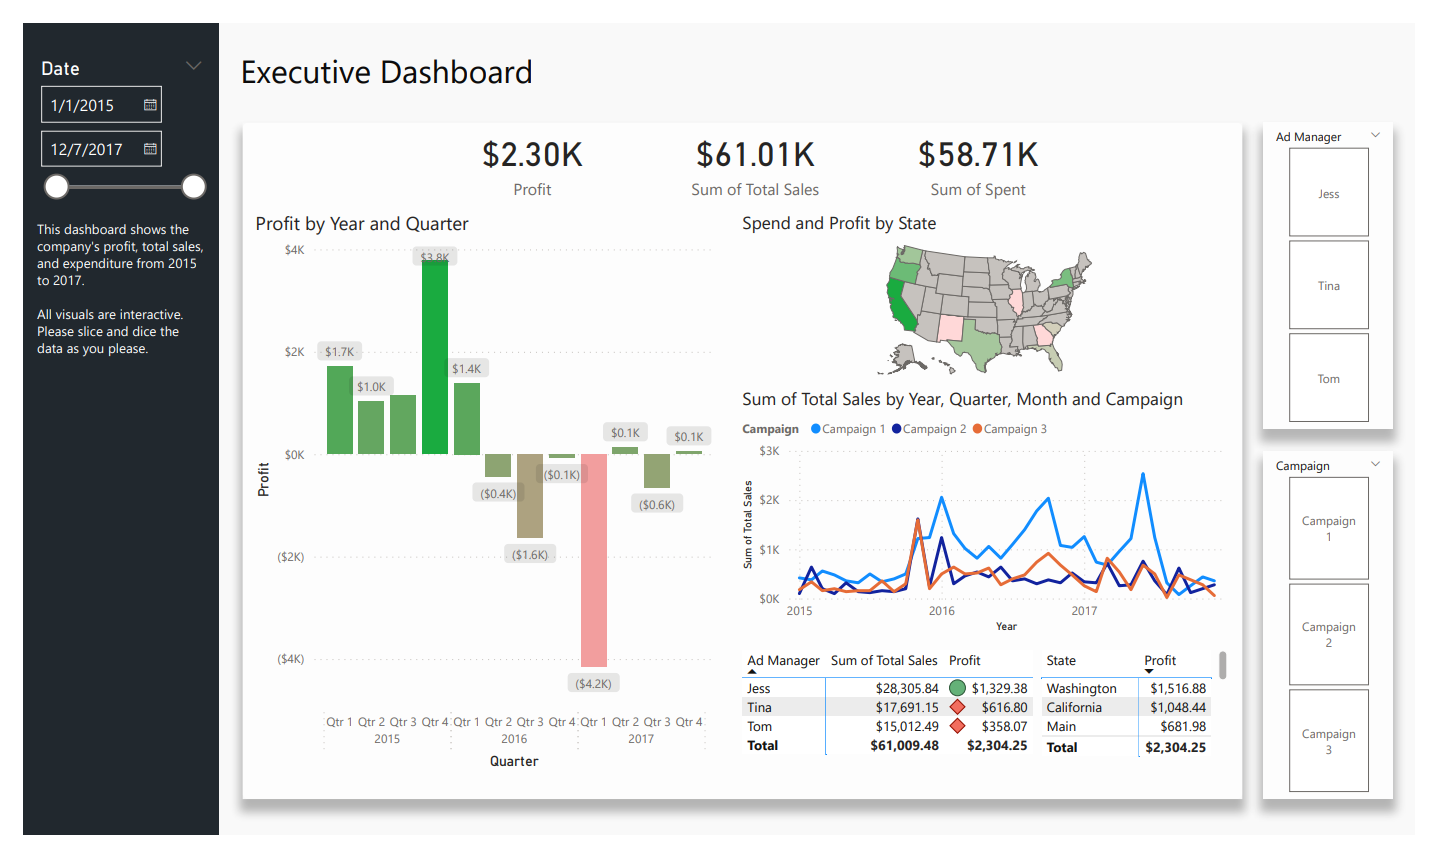

The dashboard page shown, as its layout file describes it:
{"tool":"powerbi","page":{"name":"BI Dashboard Practice","canvas":[1395,814],"ordinal":10},"visuals":[{"type":"shape","box":[0,0,196,814],"z":0},{"type":"shape","box":[220,100,1002.2,677.8],"z":1000},{"type":"columnChart","fields":{"Category":["fb_campaign.Date.Variation.Date Hierarchy.Year","fb_campaign.Date.Variation.Date Hierarchy.Quarter","fb_campaign.Date.Variation.Date Hierarchy.Month","fb_campaign.Date.Variation.Date Hierarchy.Day"],"Y":["fb_campaign.Profit"]},"box":[227.8,187.8,470,565.6],"z":3000},{"type":"shapeMap","fields":{"Category":["fb_campaign.State"],"Value":["fb_campaign.Spent"]},"box":[715.6,187.8,496.7,176.7],"z":4000},{"type":"lineChart","fields":{"Category":["fb_campaign.Date.Variation.Date Hierarchy.Year","fb_campaign.Date.Variation.Date Hierarchy.Quarter","fb_campaign.Date.Variation.Date Hierarchy.Month","fb_campaign.Date.Variation.Date Hierarchy.Day"],"Y":["fb_campaign.Total Sales"],"Series":["fb_campaign.Campaign "]},"box":[715.6,364.4,496.7,251.1],"z":5000},{"type":"pivotTable","fields":{"Rows":["fb_campaign.Ad Manager"],"Values":["fb_campaign.Total Sales","fb_campaign.Profit"]},"box":[715.6,624.4,307.8,115.6],"z":6000},{"type":"card","fields":{"Values":["fb_campaign.Total Sales"]},"box":[622.2,94.4,223.3,90],"z":9000},{"type":"slicer","fields":{"Values":["fb_campaign.Ad Manager"]},"box":[1243.3,100,130,306.7],"z":10000},{"type":"slicer","fields":{"Values":["fb_campaign.Campaign "]},"box":[1243.3,430,130,347.8],"z":11000},{"type":"slicer","fields":{"Values":["fb_campaign.Date"]},"box":[5,28.9,186.7,171.1],"z":12000},{"type":"pivotTable","fields":{"Rows":["fb_campaign.State"],"Values":["fb_campaign.Profit"]},"box":[1015.6,624.4,196.7,115.6],"z":13000},{"type":"textbox","box":[204,20,354,59],"z":14000},{"type":"textbox","box":[8.9,193.3,177.8,152.2],"z":15000},{"type":"card","fields":{"Values":["fb_campaign.Spent"]},"box":[845.6,94.4,223.3,90],"z":15001},{"type":"card","fields":{"Values":["fb_campaign.Profit"]},"box":[398.9,94.4,223.3,90],"z":15002}]}

Visuals, with their boxes on the page's 1395x814 design canvas (x1, y1, x2, y2). These are canvas units, not pixel positions in the 1439x859 screenshot, which may show the page scaled, cropped or inside an application window:
shape: 0,0,196,814
shape: 220,100,1222,778
columnChart - fb_campaign.Date.Variation.Date Hierarchy.Year x fb_campaign.Date.Variation.Date Hierarchy.Quarter: 228,188,698,753
shapeMap - fb_campaign.State x fb_campaign.Spent: 716,188,1212,364
lineChart - fb_campaign.Date.Variation.Date Hierarchy.Year x fb_campaign.Date.Variation.Date Hierarchy.Quarter: 716,364,1212,616
pivotTable - fb_campaign.Ad Manager x fb_campaign.Total Sales: 716,624,1023,740
card - fb_campaign.Total Sales: 622,94,846,184
slicer - fb_campaign.Ad Manager: 1243,100,1373,407
slicer - fb_campaign.Campaign : 1243,430,1373,778
slicer - fb_campaign.Date: 5,29,192,200
pivotTable - fb_campaign.State x fb_campaign.Profit: 1016,624,1212,740
textbox: 204,20,558,79
textbox: 9,193,187,346
card - fb_campaign.Spent: 846,94,1069,184
card - fb_campaign.Profit: 399,94,622,184
